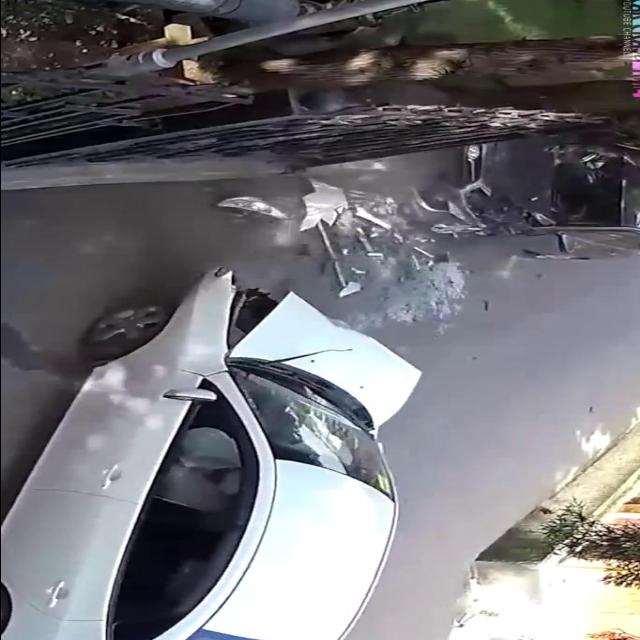accident: (1, 264, 462, 640), (235, 139, 640, 261)
